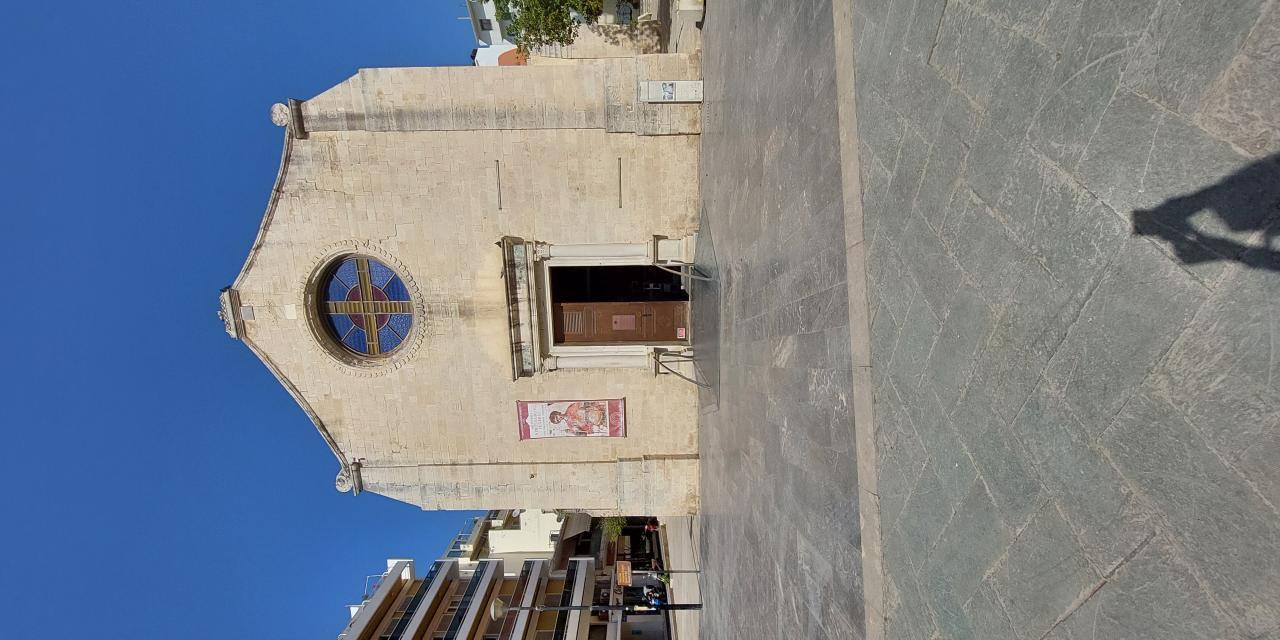Agia Aikaterini: (218, 48, 699, 529)
